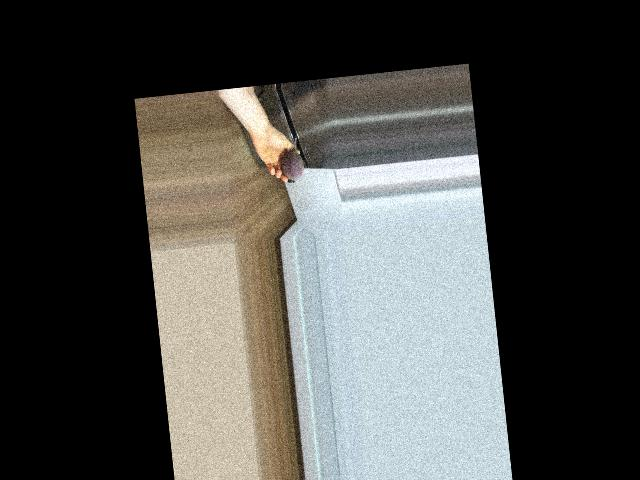beet: (278, 137, 304, 184)
